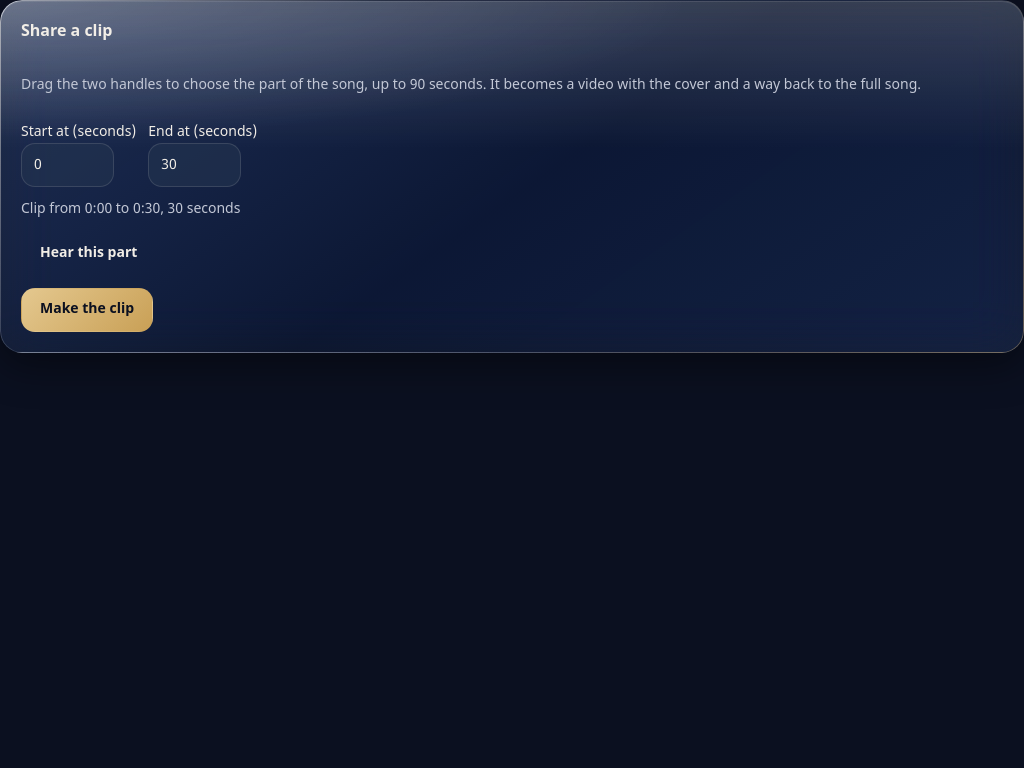
Test: ClipCard › lets a visitor download the clip, copy a caption with the link and the tag, and says what to do on a computer
The width and height of the screenshot is (1024, 768).
Click the button "Make the clip".
click(87, 310)  # box [21,288,153,332]
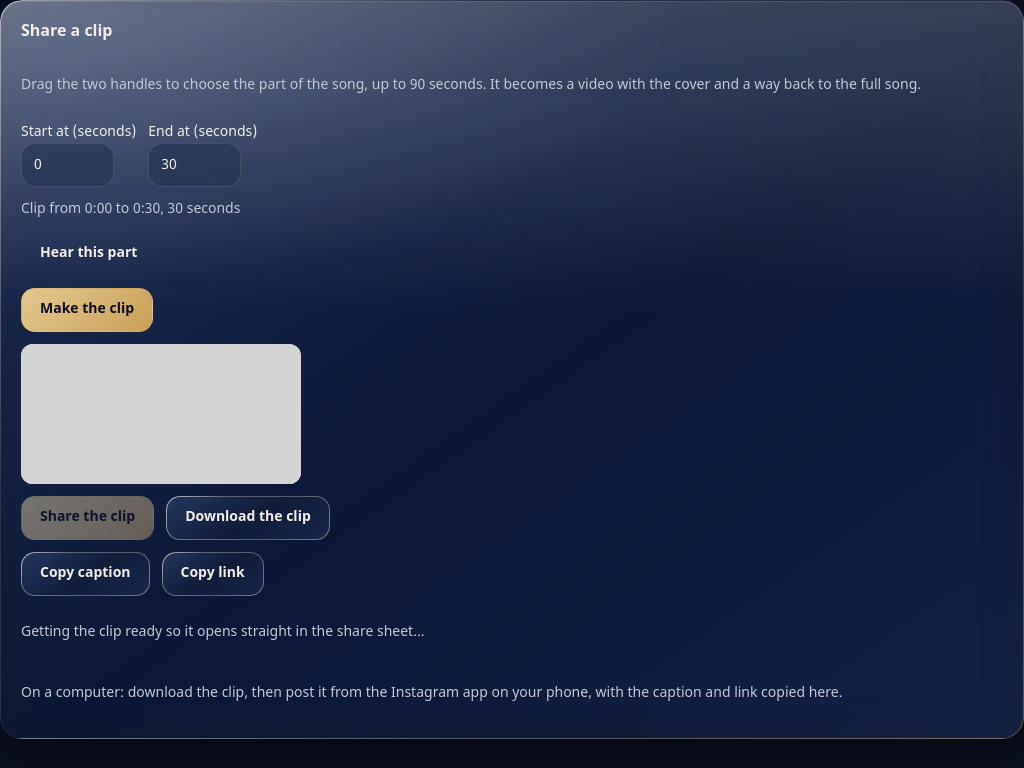
Expected: the text "On a computer: download the clip, then post it from the Instagram app" is shown, [21,684,842,703]
Click the button "Copy caption".
click(85, 574)  # box [21,552,150,596]
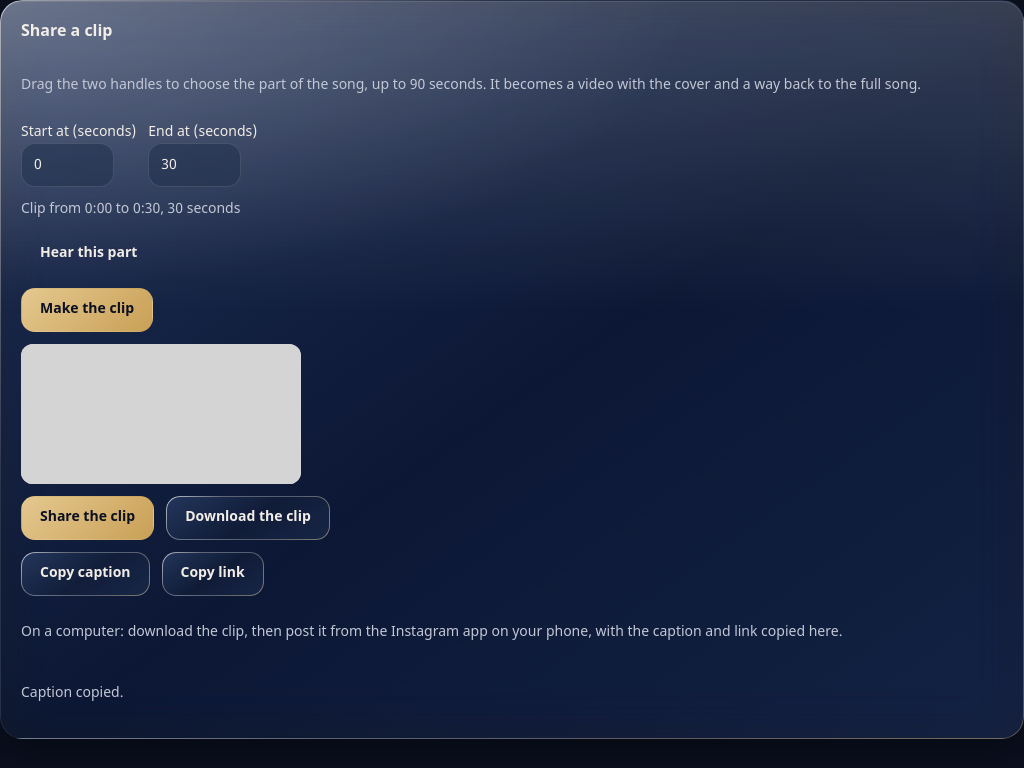
Expected: the text "Caption copied." is shown, [21,684,123,703]
